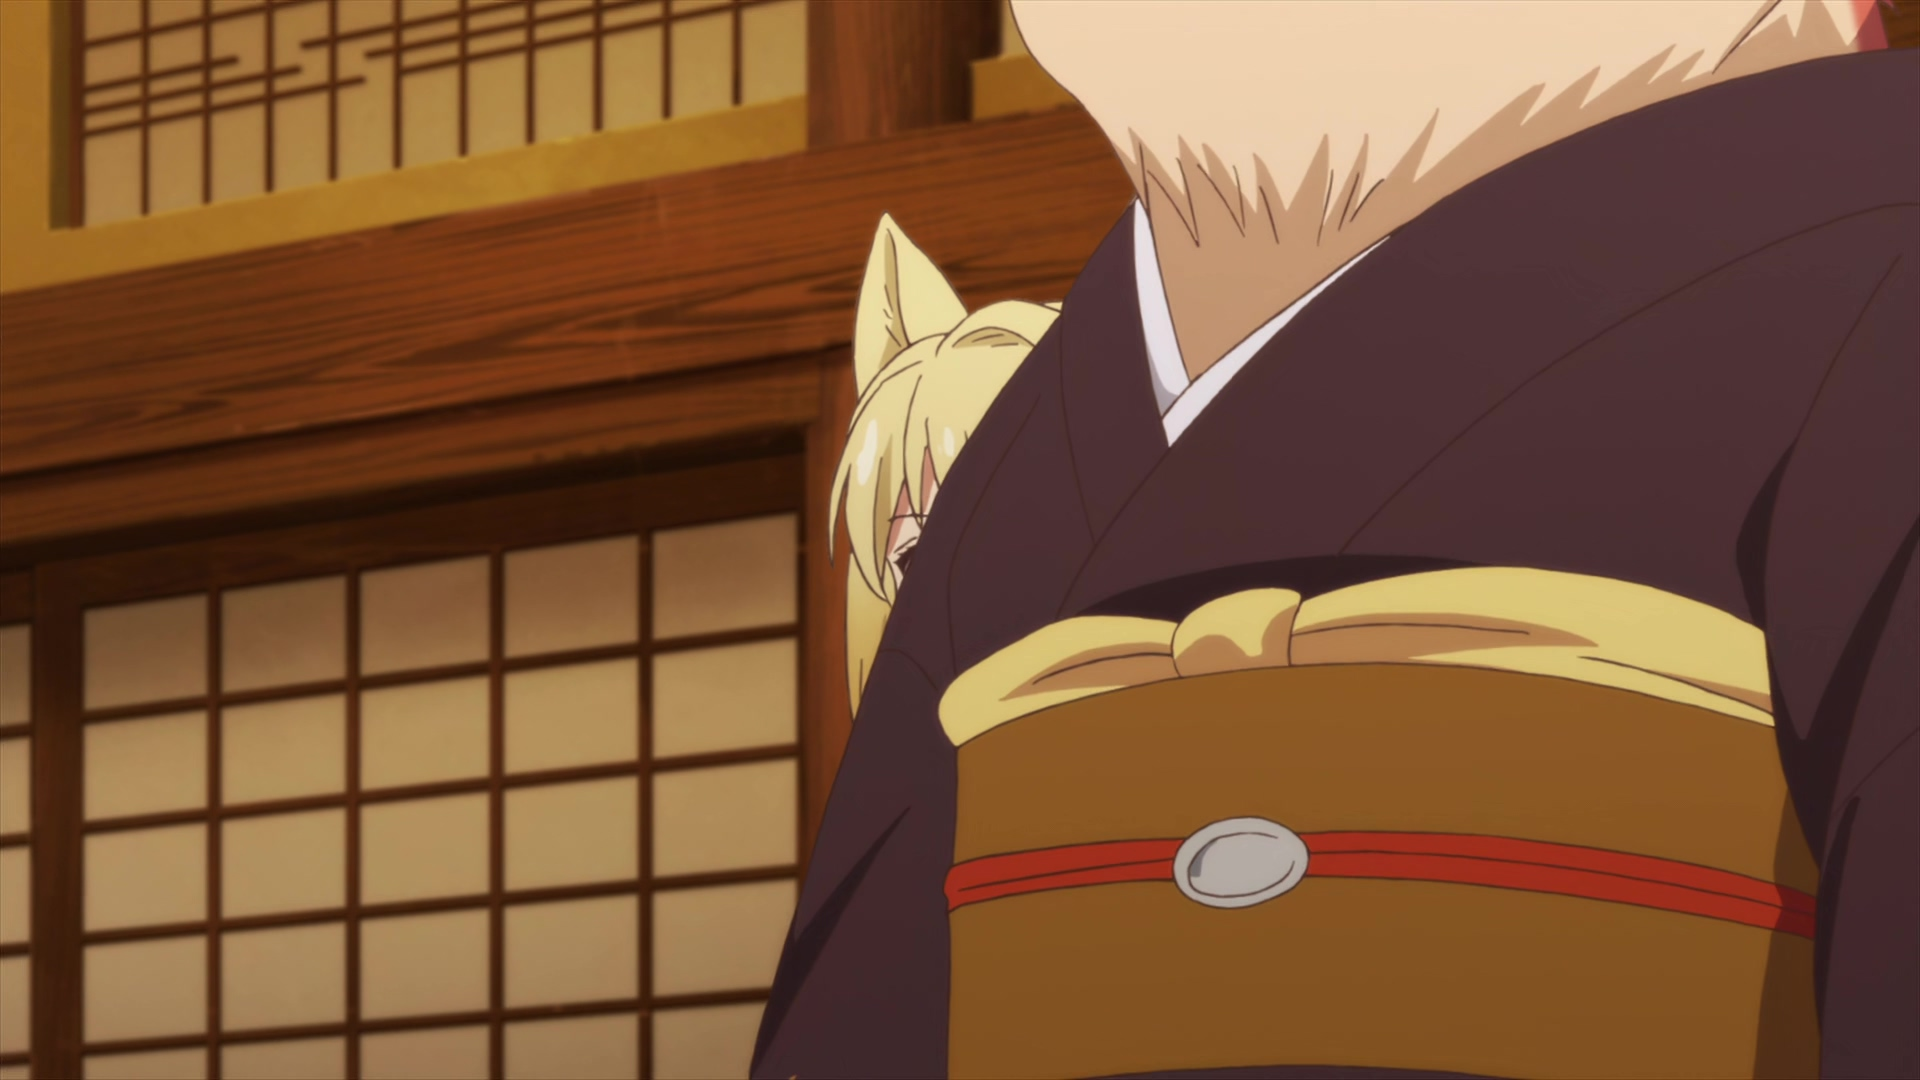桐: (825, 215, 1067, 717)
椿: (752, 1, 1920, 1080)
